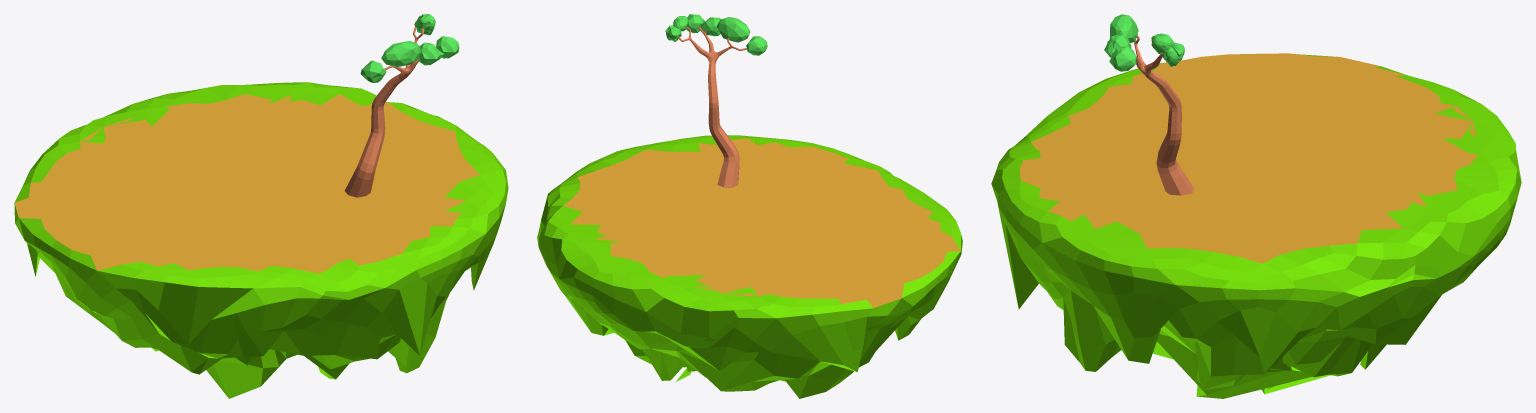
Rendered from floatingworld.gltf.
3 views of the same model, side by side, from view 1: azimuth 30°, elevation 25°; view 2: azimuth 150°, elevation 25°; view 3: azimuth 270°, elevation 25° (orthographic). The views are drawn at different scales.
Visible parts, largest first — view 1: Icosphere, Cube.001, Icosphere.003; view 2: Icosphere, Cube.001, Icosphere.003; view 3: Icosphere, Cube.001, Icosphere.003, Icosphere.004.
Part boxes in pixels (bbox=[...]): Icosphere: bbox=[14, 82, 508, 398]; Cube.001: bbox=[344, 26, 436, 197]; Icosphere.003: bbox=[381, 40, 420, 66]; Icosphere: bbox=[537, 135, 962, 398]; Cube.001: bbox=[678, 26, 746, 187]; Icosphere.003: bbox=[717, 17, 750, 42]; Icosphere: bbox=[991, 53, 1521, 398]; Cube.001: bbox=[1134, 35, 1194, 195]; Icosphere.003: bbox=[1110, 14, 1137, 42]; Icosphere.004: bbox=[1109, 46, 1136, 71].
Size of the model in its own units: 11.38 by 9.12 by 10.78.
